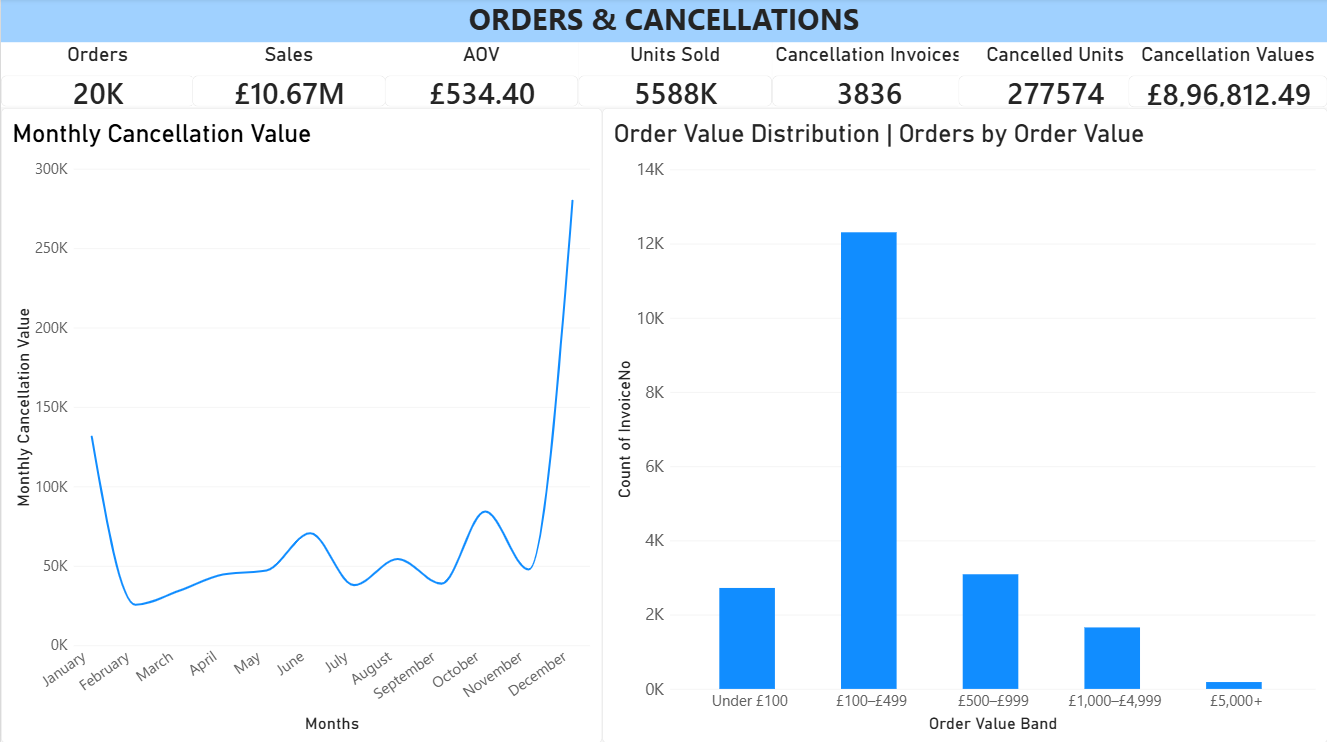

What the dashboard file says about the page in this screenshot:
{"tool":"powerbi","page":{"name":"Orders & Cancellations","canvas":[1920,1080],"ordinal":4},"visuals":[{"type":"cardVisual","title":"Orders","fields":{"Data":["online_retail_clean.Orders"]},"box":[0,64,280,94],"z":0},{"type":"cardVisual","title":"Sales","fields":{"Data":["online_retail_clean.SalesRevenue"]},"box":[276.4,63.6,280,94.5],"z":1000},{"type":"cardVisual","title":"AOV","fields":{"Data":["online_retail_clean.AOV"]},"box":[556,64,280,94],"z":2000},{"type":"cardVisual","title":"Units Sold","fields":{"Data":["online_retail_clean.Units Sold"]},"box":[836,64,280,94],"z":3000},{"type":"cardVisual","title":"Cancellation Invoices","fields":{"Data":["online_retail_clean.Cancellation Invoices"]},"box":[1116,64,280,94],"z":5000},{"type":"cardVisual","title":"Cancelled Units","fields":{"Data":["online_retail_clean.Cancelled Units"]},"box":[1386,64,280,94],"z":6000},{"type":"cardVisual","title":"Cancellation Values","fields":{"Data":["online_retail_clean.Cancellation Value"]},"box":[1631.7,63.3,288.3,95],"z":7000},{"type":"lineChart","title":"Monthly Cancellation Value","fields":{"Category":["online_retail.InvoiceDate.Variation.Date Hierarchy.Year","online_retail.InvoiceDate.Variation.Date Hierarchy.Month"],"Y":["online_retail_clean.Monthly Cancellation Value"]},"box":[0,160,870,920],"z":8000},{"type":"clusteredColumnChart","title":"Order Value Distribution | Orders by Order Value","fields":{"Category":["Order_Summary.Order Value Band"],"Y":["CountNonNull(Order_Summary.InvoiceNo)"]},"box":[870,160,1050,920],"z":9000},{"type":"textbox","box":[0,0,1920,64],"z":10000}]}

Visuals, with their boxes in screenshot pixels (x1, y1, x2, y2), scaled from the page's 1920x1080 canvas onto the 1327x742 screenshot:
"Orders" cardVisual: (x1=0, y1=44, x2=194, y2=109)
"Sales" cardVisual: (x1=191, y1=44, x2=385, y2=109)
"AOV" cardVisual: (x1=384, y1=44, x2=578, y2=109)
"Units Sold" cardVisual: (x1=578, y1=44, x2=771, y2=109)
"Cancellation Invoices" cardVisual: (x1=771, y1=44, x2=965, y2=109)
"Cancelled Units" cardVisual: (x1=958, y1=44, x2=1151, y2=109)
"Cancellation Values" cardVisual: (x1=1128, y1=43, x2=1326, y2=109)
"Monthly Cancellation Value" lineChart: (x1=0, y1=110, x2=601, y2=741)
"Order Value Distribution | Orders by Order Value" clusteredColumnChart: (x1=601, y1=110, x2=1326, y2=741)
textbox: (x1=0, y1=0, x2=1326, y2=44)
